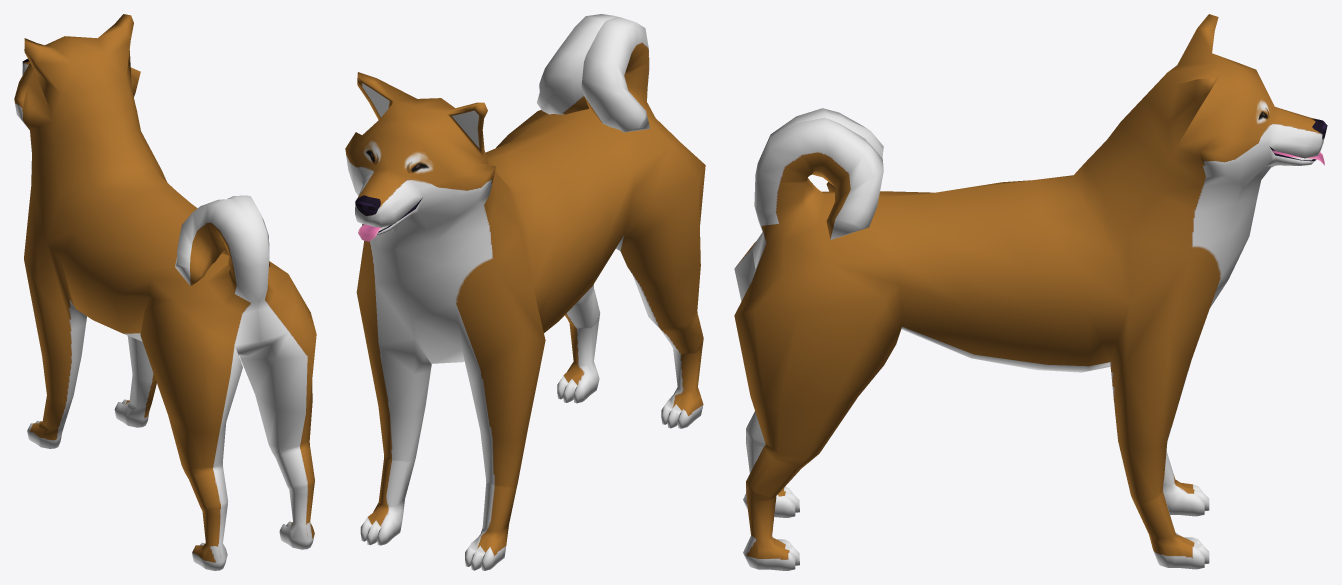
File: shibainu.blend.fbx
3 views of the same model, side by side, from view 1: azimuth 30°, elevation 25°; view 2: azimuth 150°, elevation 25°; view 3: azimuth 270°, elevation 25° (orthographic). The views are drawn at different scales.
Parts seen in each view (by area): view 1: Plane; view 2: Plane; view 3: Plane.
Part boxes in pixels (bbox=[...]): Plane: bbox=[14, 14, 316, 570]; Plane: bbox=[345, 14, 705, 570]; Plane: bbox=[734, 14, 1327, 570].
Bounding box in the file's own units: 77.21 × 200 × 218.
